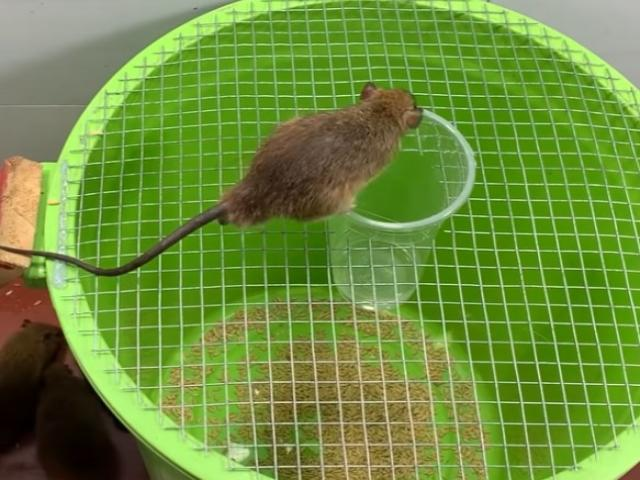Tikus: (4, 84, 423, 278)
